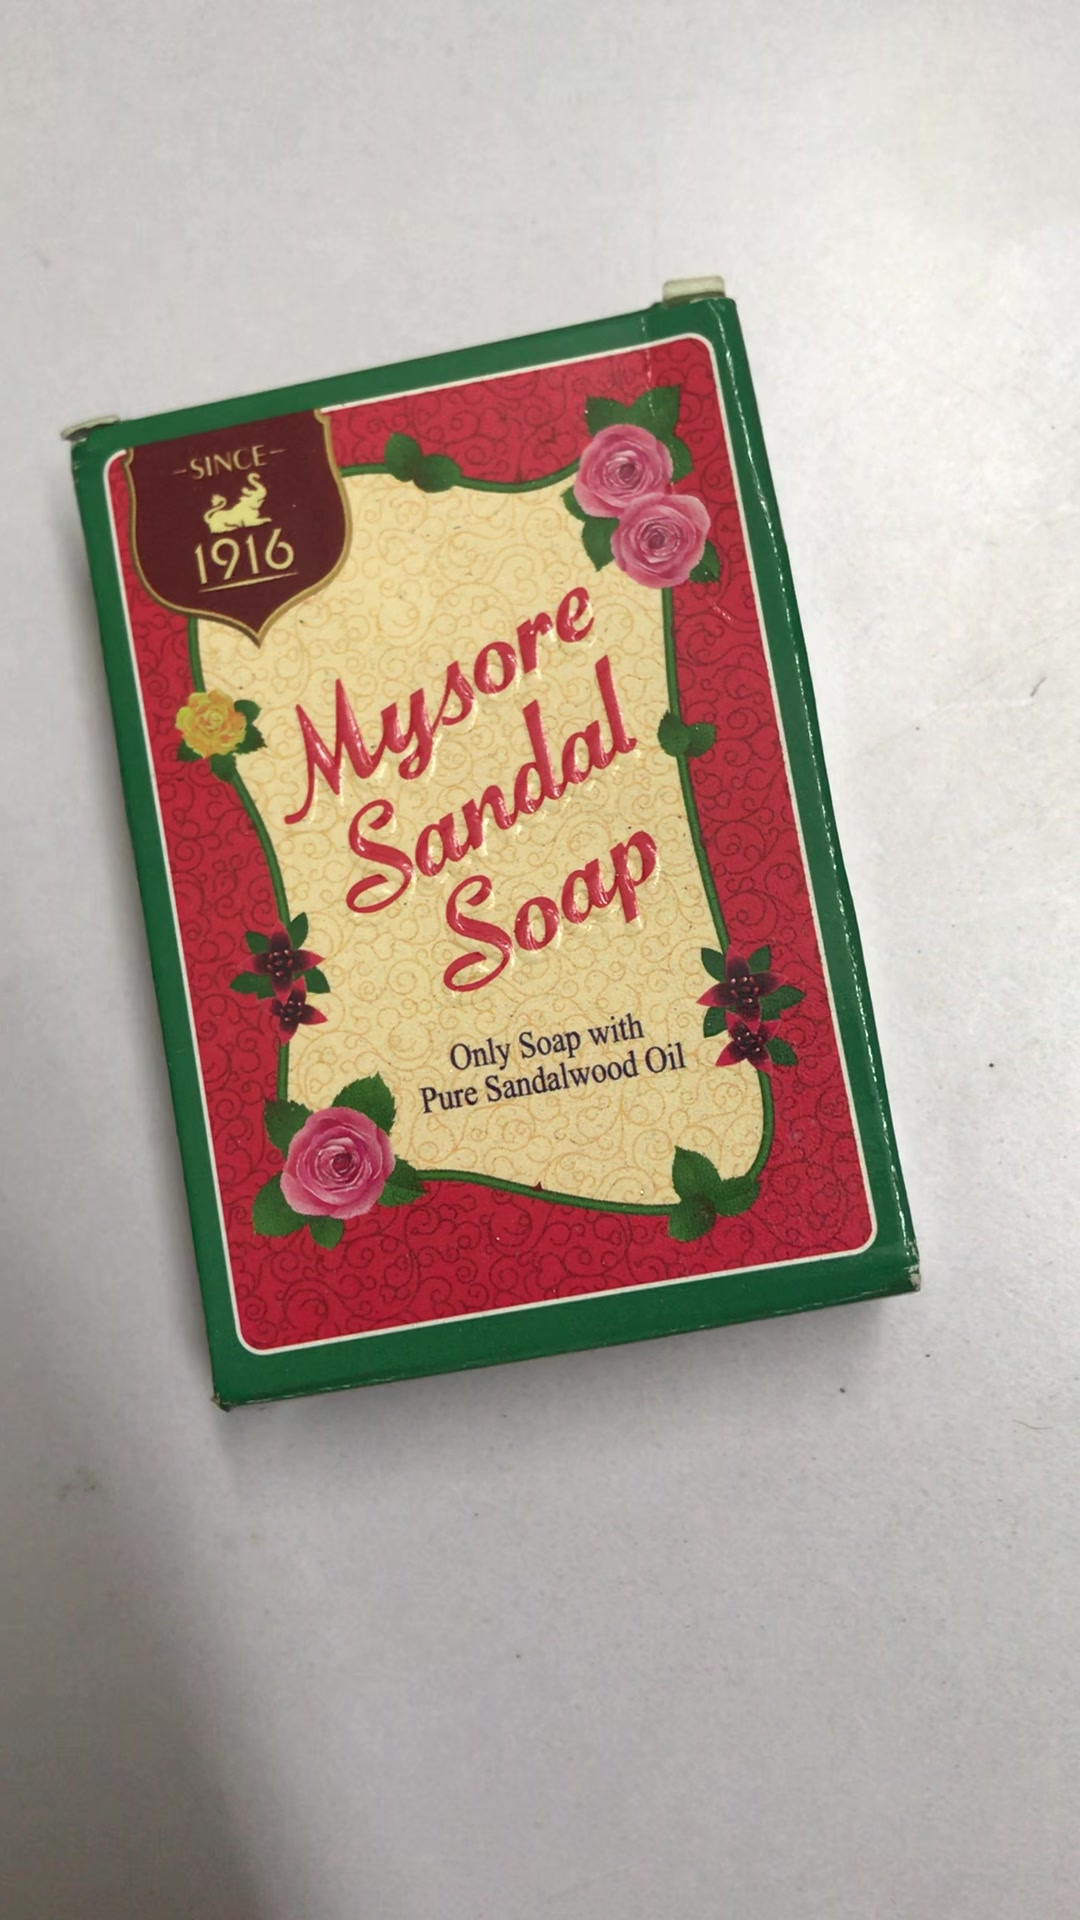mysore sandal soap: (49, 295, 926, 1408)
